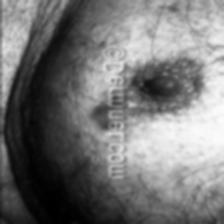Potentially Malignant Skin Tumors: (71, 53, 217, 135)
